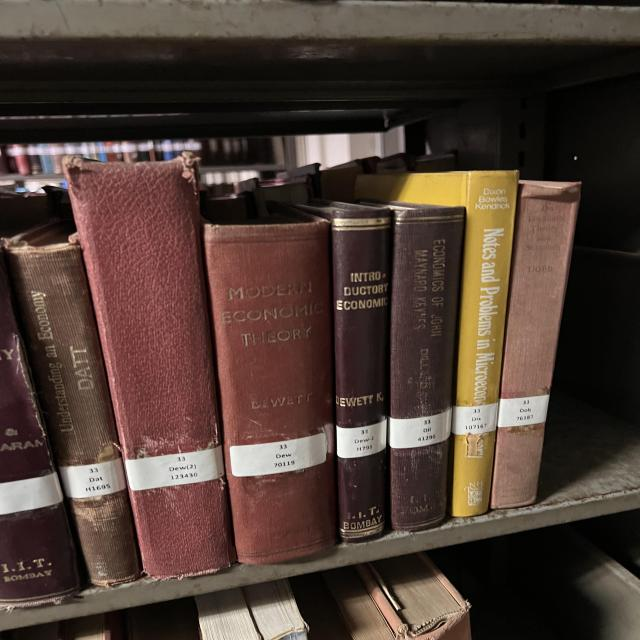Book: (63, 152, 235, 579), (355, 170, 518, 516), (5, 221, 140, 585), (203, 206, 337, 564), (360, 200, 465, 530), (295, 200, 392, 542), (490, 180, 580, 509), (0, 275, 80, 606)
Label: (125, 446, 223, 491), (230, 432, 327, 476), (58, 458, 127, 499), (0, 472, 63, 515), (388, 409, 452, 449), (337, 420, 387, 459), (497, 395, 550, 428), (452, 402, 498, 435)
